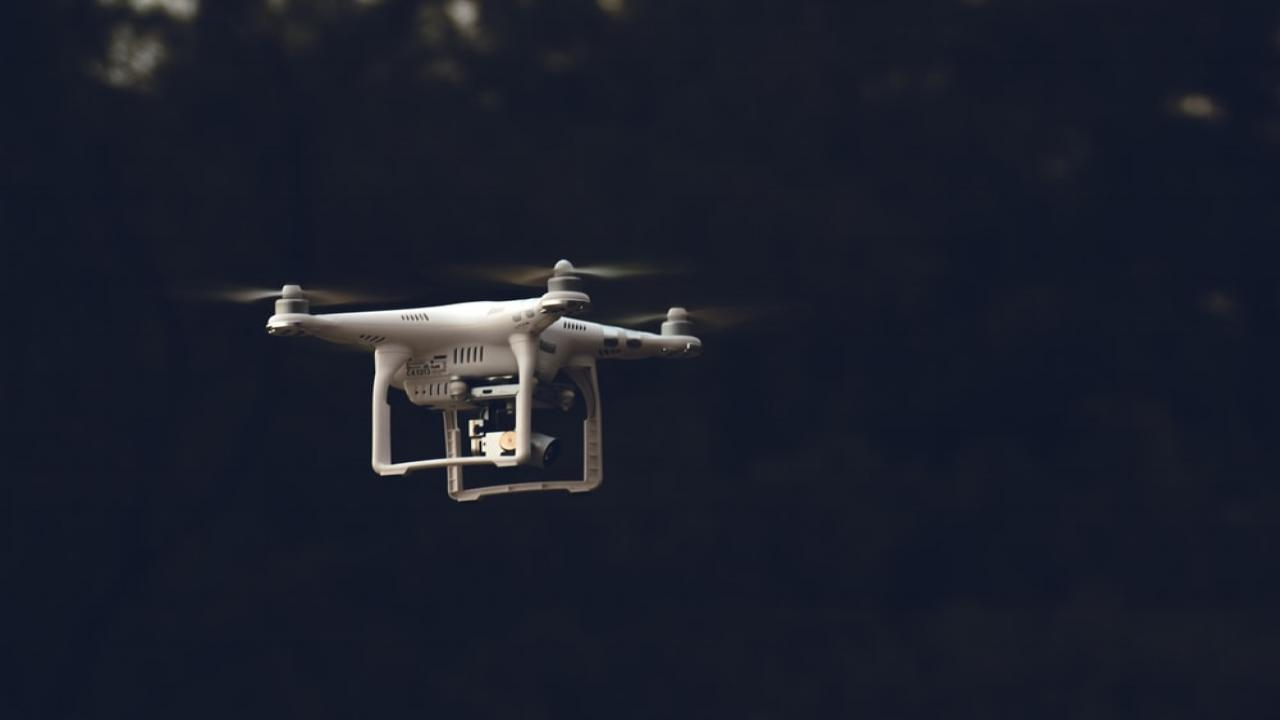Drone: (195, 250, 768, 508)
